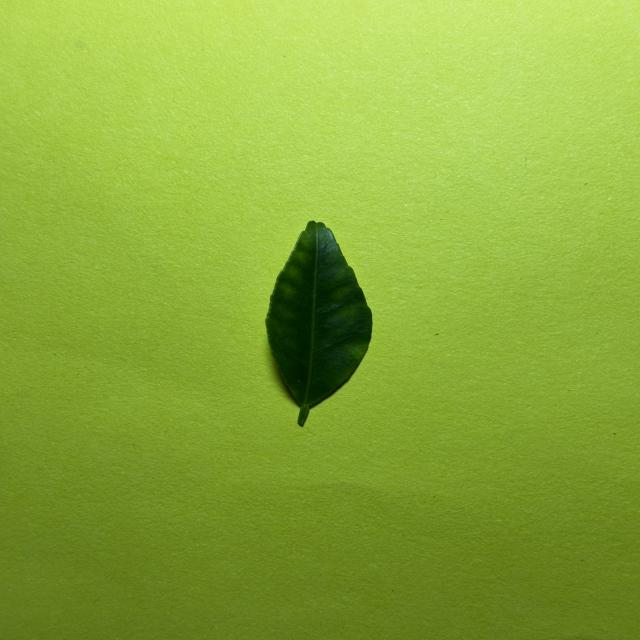greening: (266, 221, 372, 425)
